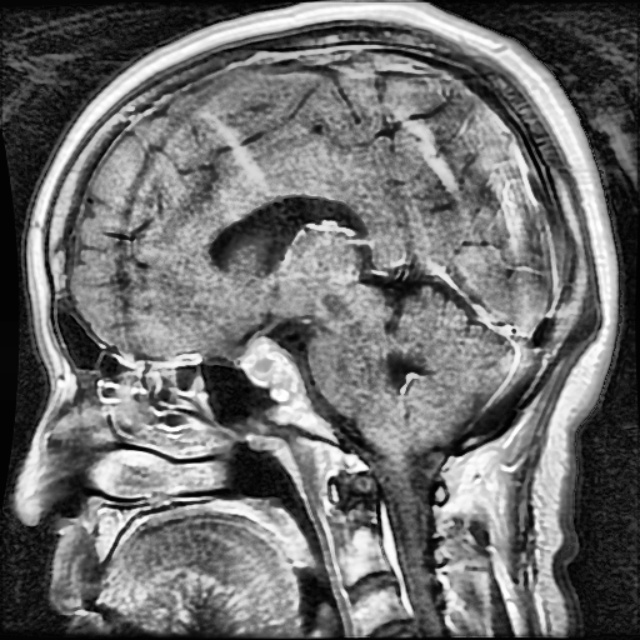Pituitary: (242, 337, 284, 387)
